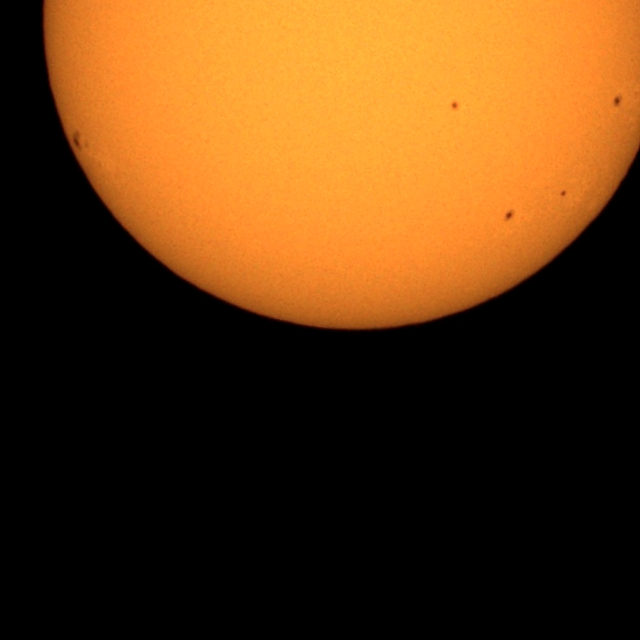sunspot: (611, 88, 639, 109), (70, 130, 90, 153), (612, 92, 623, 109), (503, 208, 516, 222), (450, 100, 459, 111), (560, 189, 568, 197)
